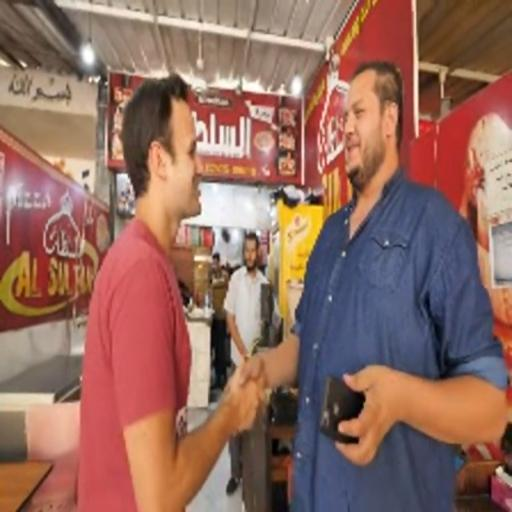nao-violencia: (55, 55, 512, 512)
